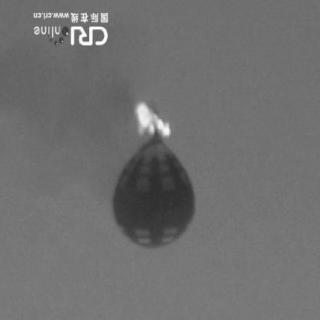Fire: (132, 97, 175, 143)
Smoke: (107, 85, 131, 112)
